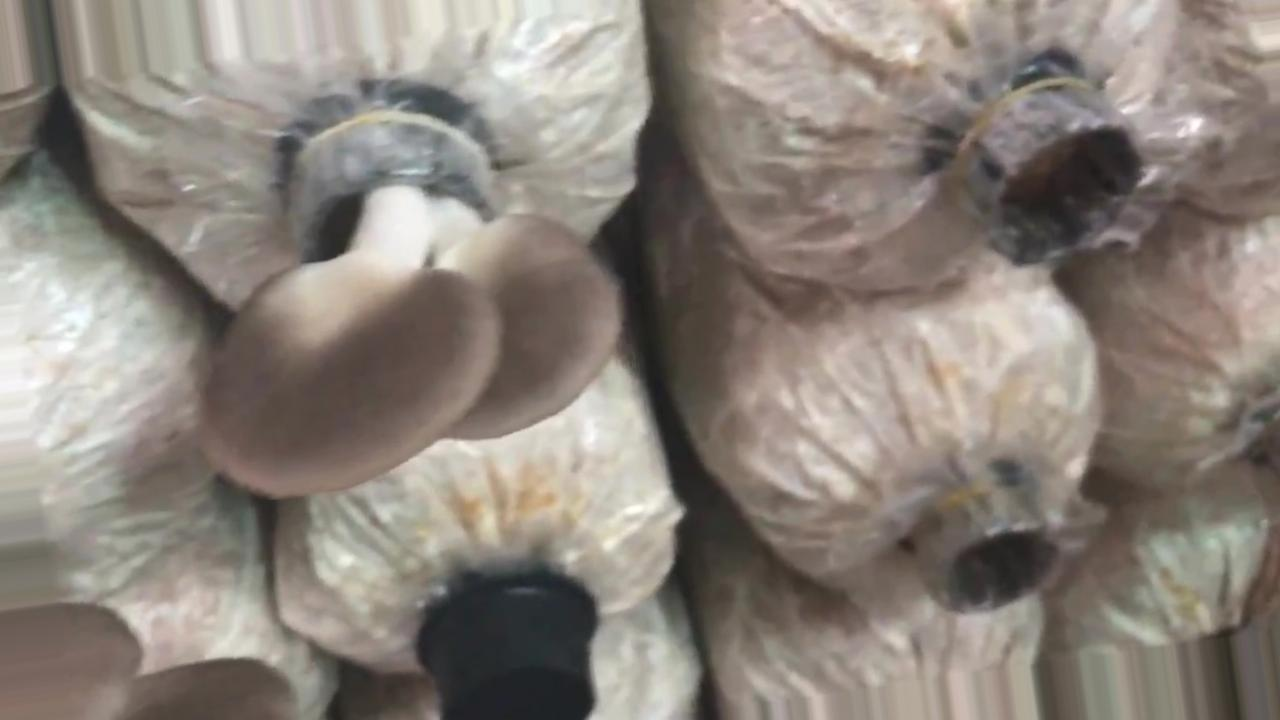nam: (200, 100, 607, 495)
